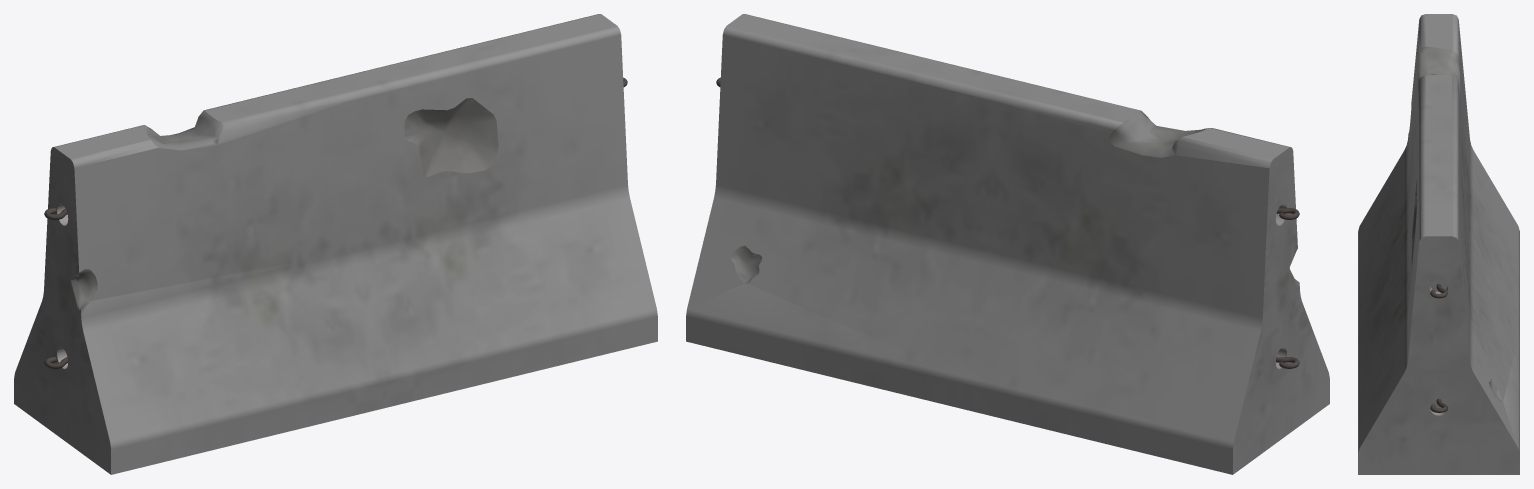
The model's file is jersey_barrier.glb.
3 views of the same model, side by side, from view 1: azimuth 30°, elevation 25°; view 2: azimuth 150°, elevation 25°; view 3: azimuth 270°, elevation 25° (orthographic). The views are drawn at different scales.
Parts seen in each view (by area): view 1: jersey_barrier; view 2: jersey_barrier; view 3: jersey_barrier.
Boxes of the visible parts, x1,y1,x2,y2 form: jersey_barrier: (14,14,657,474); jersey_barrier: (686,14,1329,474); jersey_barrier: (1358,14,1519,474).
Bounding box in the file's own units: 2.12 × 1 × 0.615.
1 material, 1 textured.
